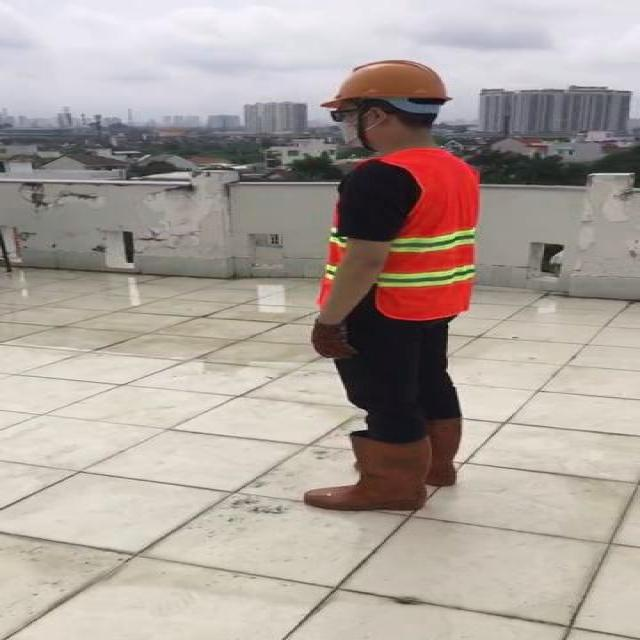boots: (306, 434, 434, 512), (423, 417, 466, 486)
hand_glove: (310, 319, 356, 361)
head_helmet: (319, 58, 451, 105)
person: (287, 55, 493, 521)
vest: (318, 149, 480, 319)
